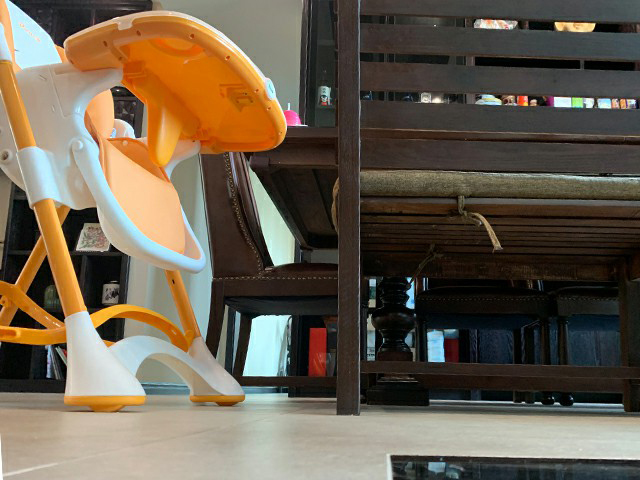stool: (324, 1, 638, 416), (199, 151, 370, 404), (414, 274, 555, 405)
